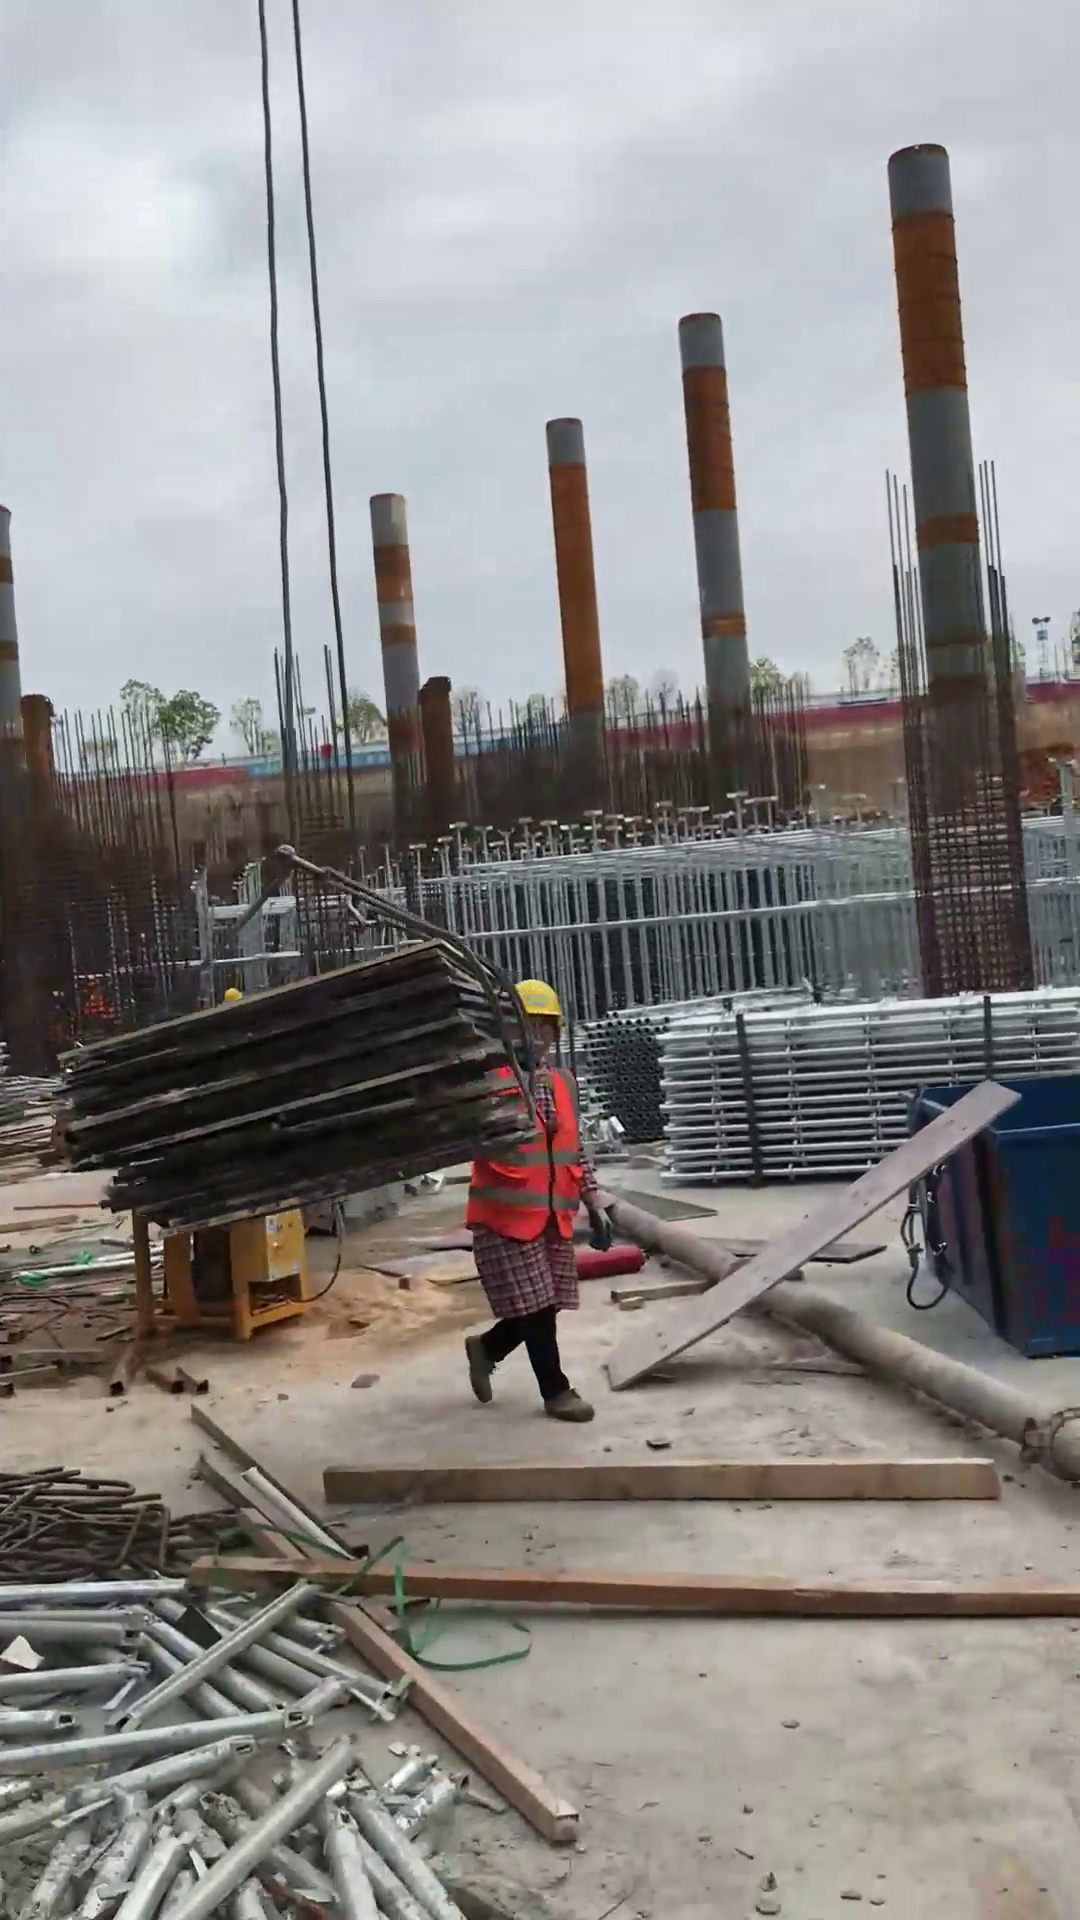board: (47, 932, 514, 1246)
cutter: (111, 1201, 368, 1351)
helmet: (503, 976, 574, 1031)
hopper: (899, 1060, 1080, 1366)
person: (444, 971, 623, 1437)
scaffold: (656, 982, 1080, 1191), (580, 970, 685, 1153)
vest: (458, 1058, 589, 1253)
